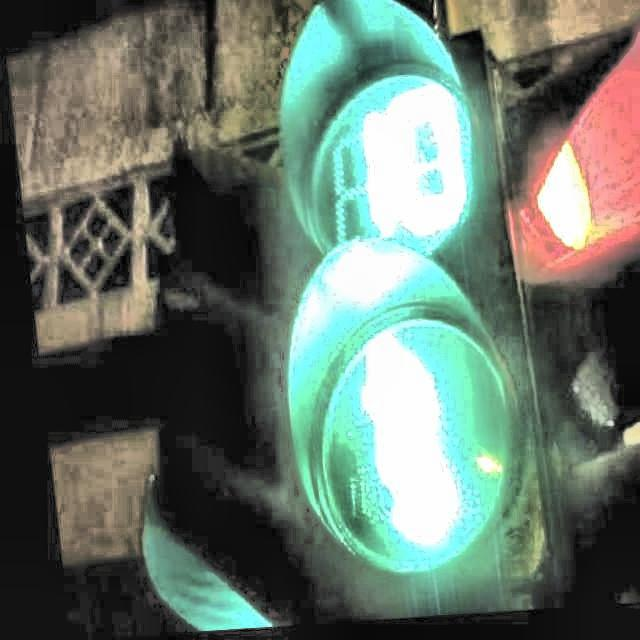semaforo pedestre: (194, 0, 626, 620)
